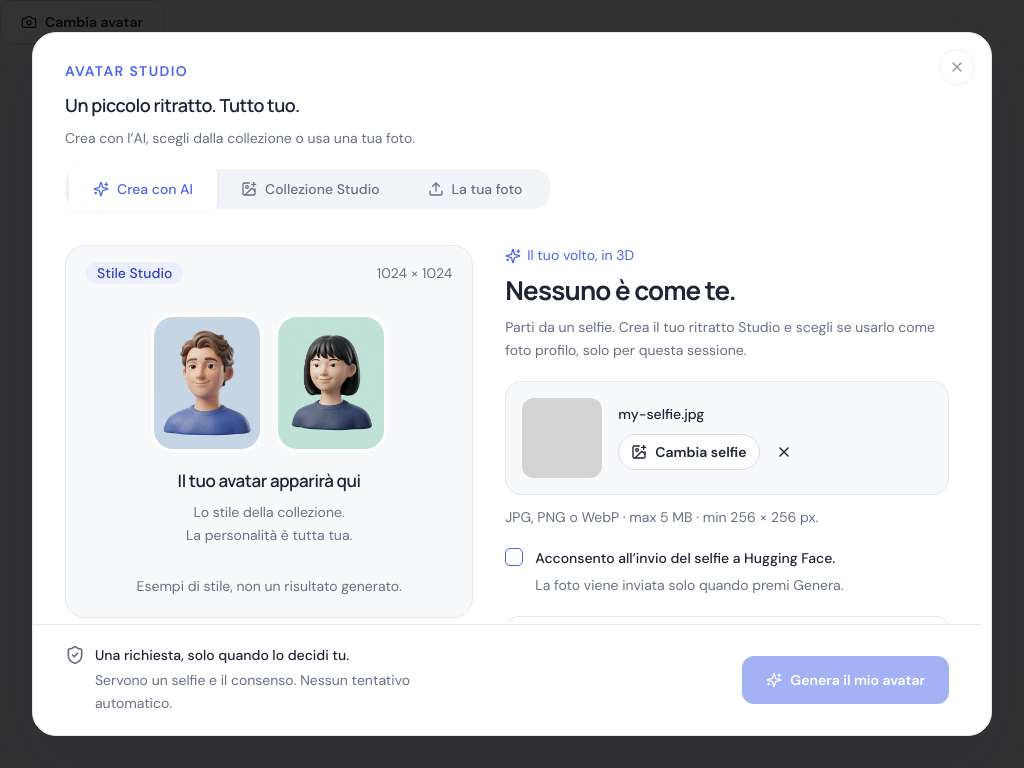
Test: existing avatar selector integration › keeps the selfie, token and consent when changing modes without generating
Earlier steps of the test are not shown.
Click the checkbox: (514, 557) left=505, top=548, right=523, bottom=566
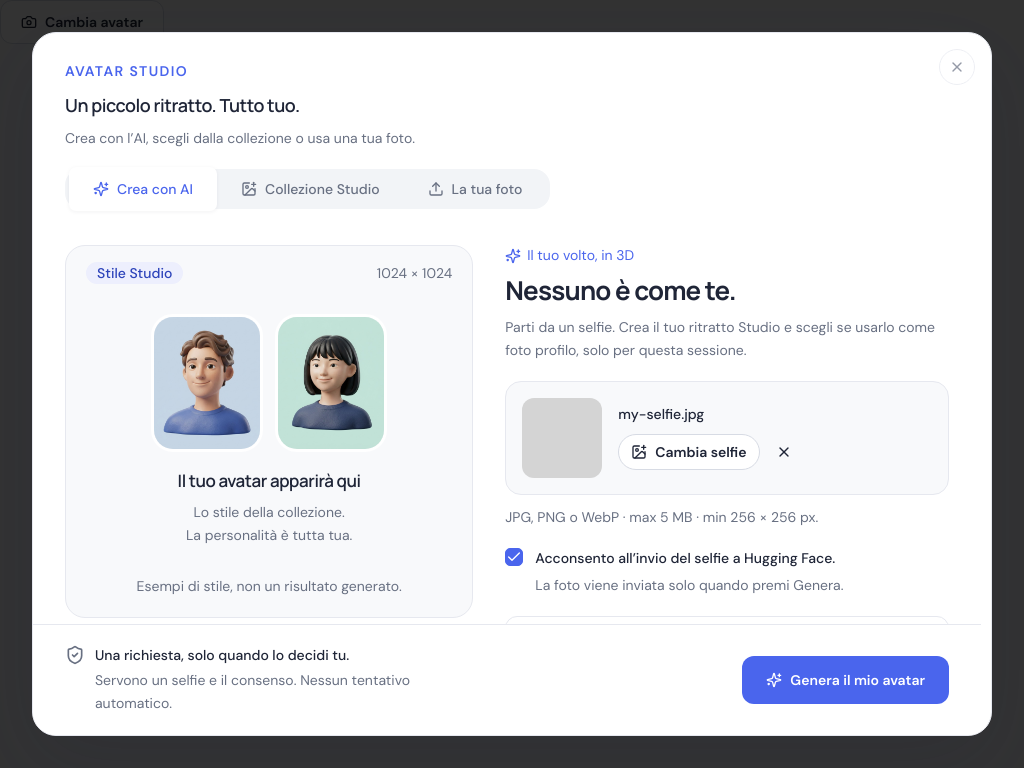
Press Enter in the tab "Collezione Studio", box left=217, top=167, right=404, bottom=211
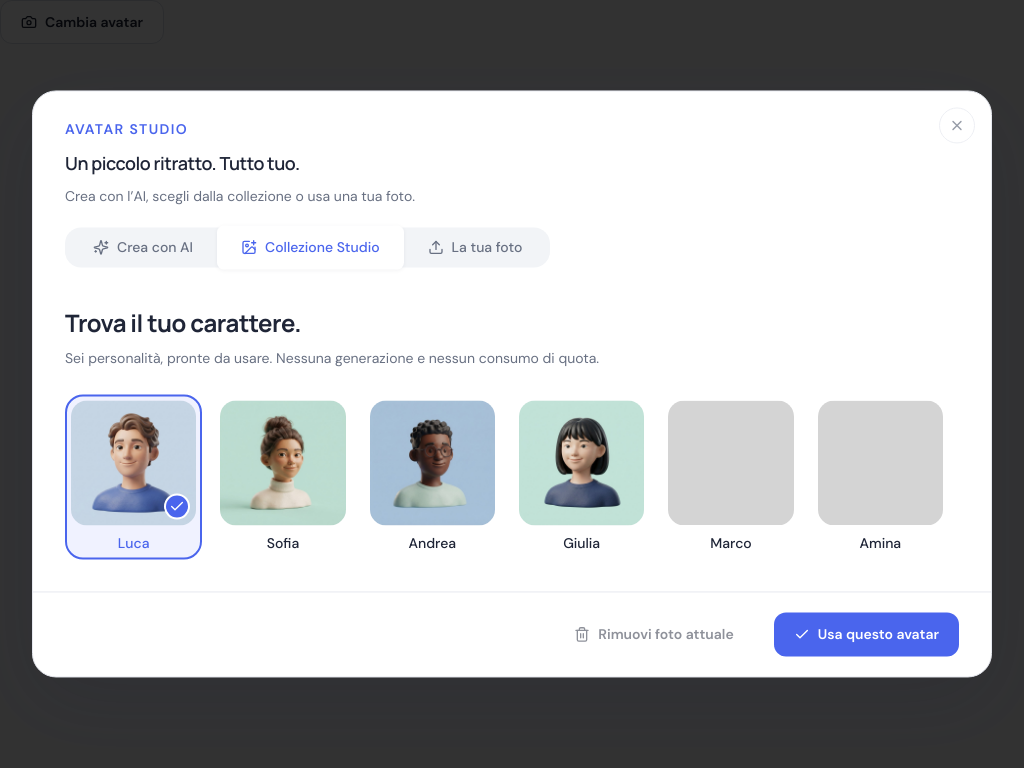
Check: the number of radio buttons is 6, box left=70, top=399, right=86, bottom=415; left=219, top=399, right=235, bottom=415; left=369, top=399, right=385, bottom=415; left=518, top=399, right=534, bottom=415; left=667, top=399, right=683, bottom=415; left=817, top=399, right=833, bottom=415
Press Enter in the tab "Crea con AI", box left=69, top=226, right=217, bottom=270
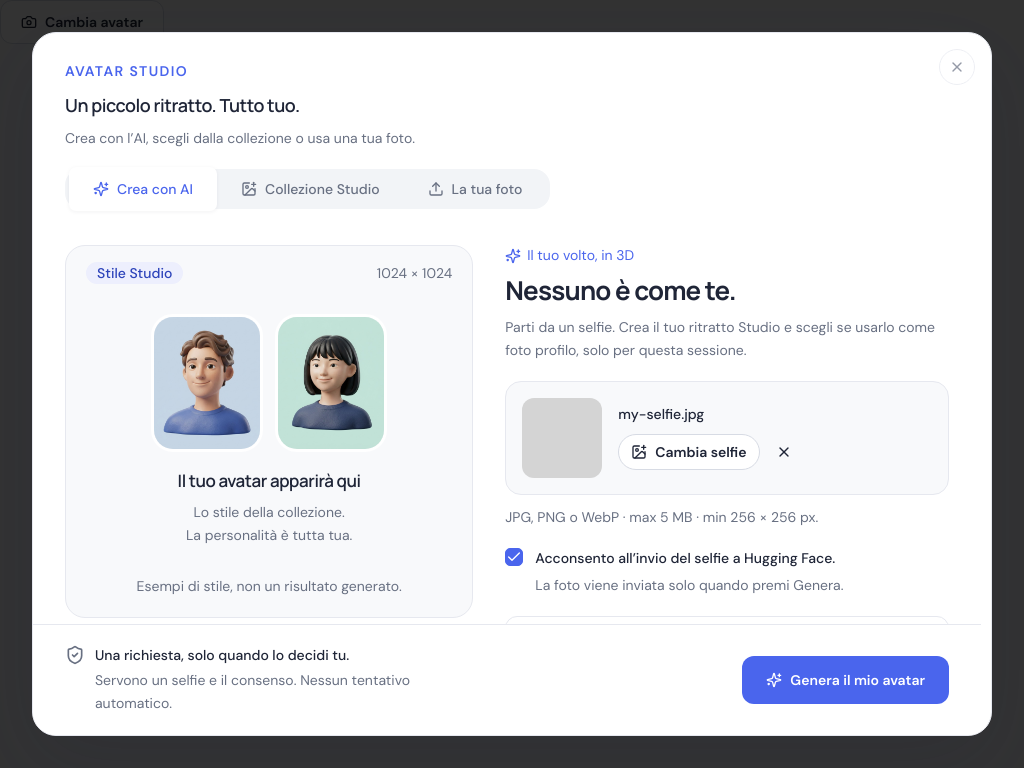
Check: the checkbox is checked, box left=505, top=548, right=523, bottom=566
